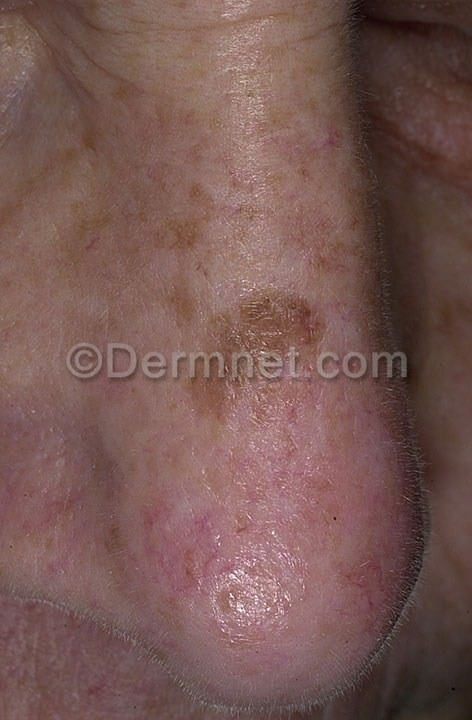Melasma: (103, 486, 415, 650), (108, 183, 393, 347), (175, 381, 271, 449)
